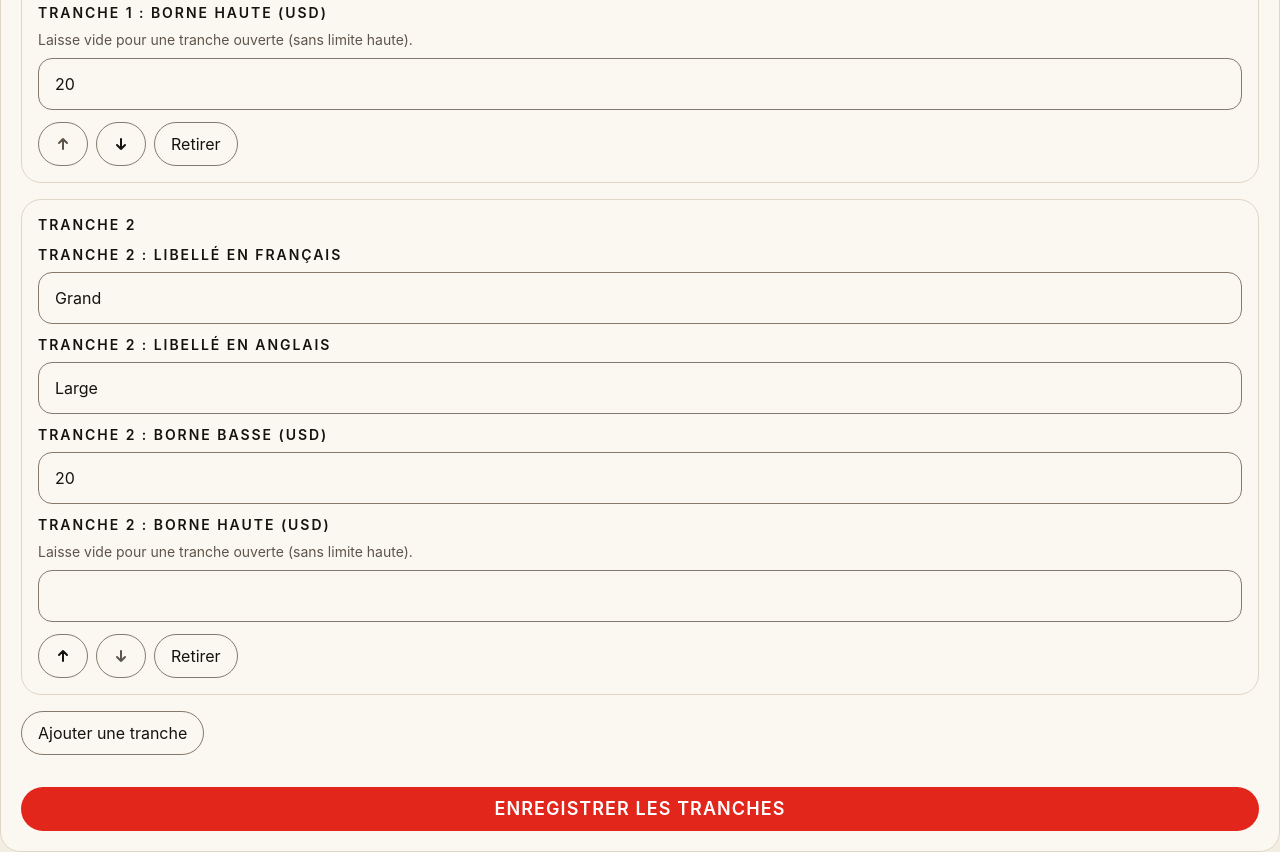
Test: EditeurTranchesPrix › Monter / Descendre : noms complets, aria-disabled en bout, l'ordre change
(page scrolled)
Step 1. Click the button named "Monter la tranche 2" → (63, 656), box [38,634,88,678]
(page scrolled)
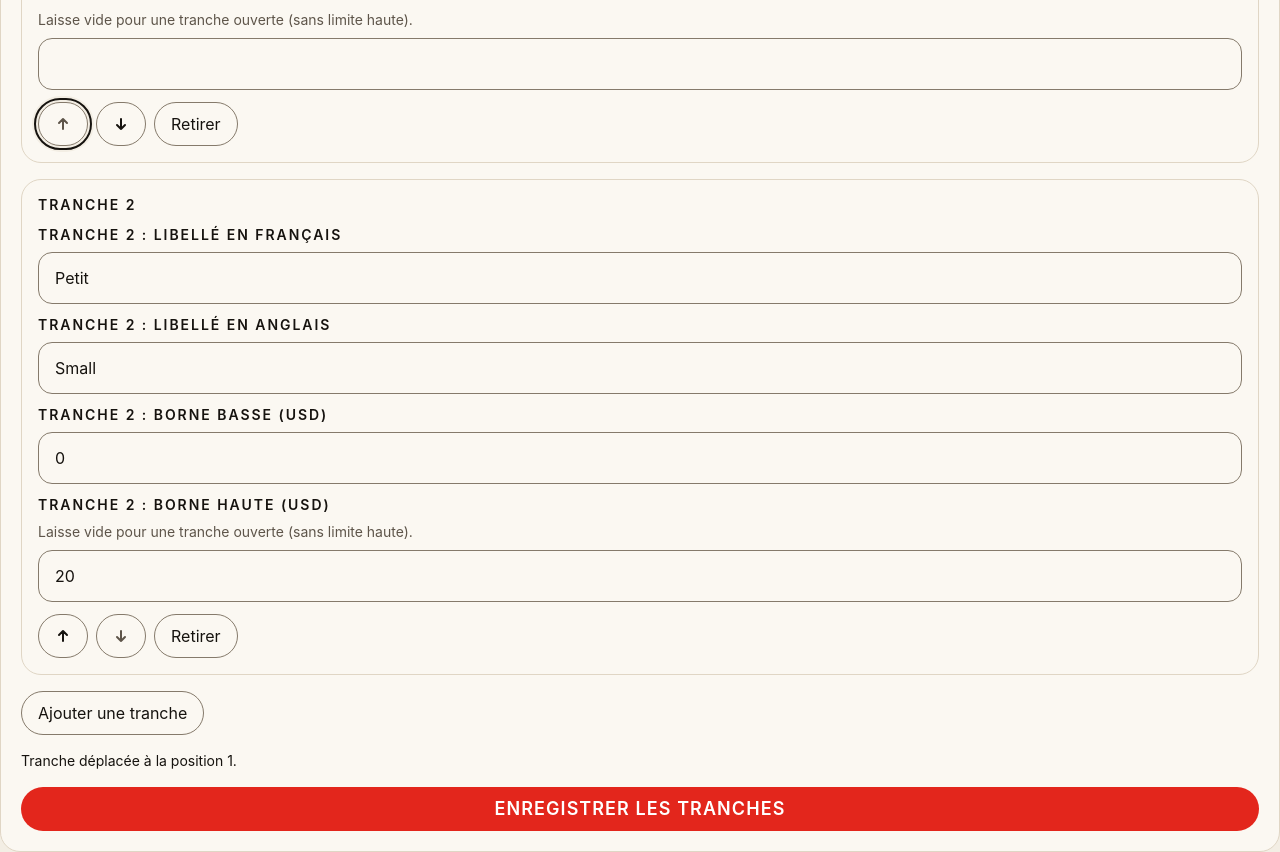
Result: the message reads "Tranche déplacée à la position 1." at [21,752,237,769]
